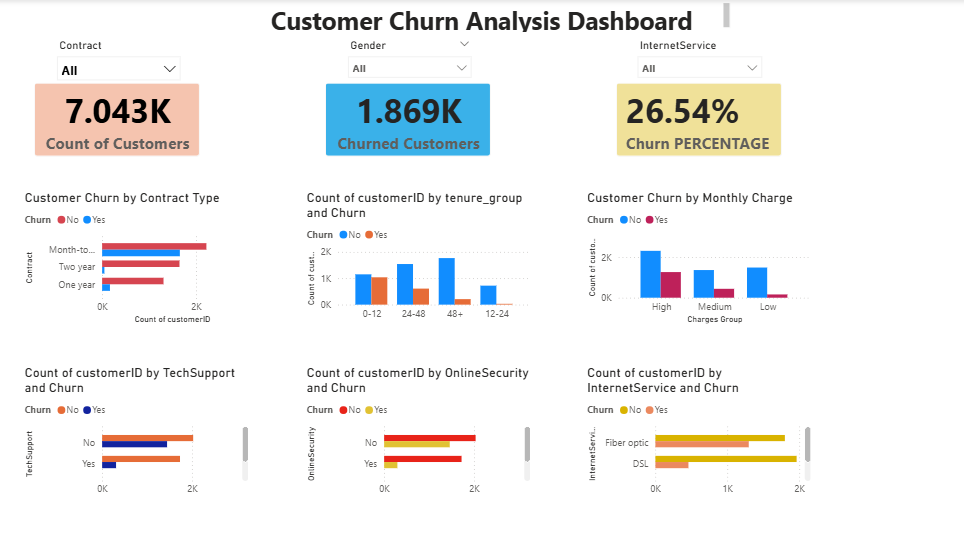

This screenshot's page, from the dashboard's own definition file:
{"tool":"powerbi","page":{"name":"Page 1","canvas":[1280,720],"ordinal":0},"visuals":[{"type":"cardVisual","fields":{"Data":["CountNonNull(WA_Fn-UseC_-Telco-Customer-Churn.customerID)"]},"box":[35.1,91.5,249.3,130.5],"z":0},{"type":"cardVisual","fields":{"Data":["WA_Fn-UseC_-Telco-Customer-Churn.churn_rate"]},"box":[790.6,91.5,249.3,130.5],"z":1000},{"type":"cardVisual","fields":{"Data":["WA_Fn-UseC_-Telco-Customer-Churn.Churned Customers"]},"box":[412.8,91.5,249.3,130.5],"z":2000},{"type":"clusteredBarChart","title":"Customer Churn by Contract Type","fields":{"Series":["WA_Fn-UseC_-Telco-Customer-Churn.Churn"],"Category":["WA_Fn-UseC_-Telco-Customer-Churn.Contract"],"Y":["CountNonNull(WA_Fn-UseC_-Telco-Customer-Churn.customerID)"]},"box":[35.1,247.3,299.9,179.1],"z":3000},{"type":"clusteredColumnChart","title":"Customer Churn by Monthly Charge","fields":{"Y":["CountNonNull(WA_Fn-UseC_-Telco-Customer-Churn.customerID)"],"Series":["WA_Fn-UseC_-Telco-Customer-Churn.Churn"],"Category":["WA_Fn-UseC_-Telco-Customer-Churn.Charges Group"]},"box":[765.3,247.3,299.9,179.1],"z":4000},{"type":"clusteredBarChart","fields":{"Category":["WA_Fn-UseC_-Telco-Customer-Churn.TechSupport"],"Series":["WA_Fn-UseC_-Telco-Customer-Churn.Churn"],"Y":["CountNonNull(WA_Fn-UseC_-Telco-Customer-Churn.customerID)"]},"box":[35.1,475.1,299.9,179.1],"z":5000},{"type":"clusteredBarChart","fields":{"Category":["WA_Fn-UseC_-Telco-Customer-Churn.OnlineSecurity"],"Y":["CountNonNull(WA_Fn-UseC_-Telco-Customer-Churn.customerID)"],"Series":["WA_Fn-UseC_-Telco-Customer-Churn.Churn"]},"box":[400.2,475.1,299.9,179.1],"z":6000},{"type":"clusteredBarChart","fields":{"Category":["WA_Fn-UseC_-Telco-Customer-Churn.InternetService"],"Y":["CountNonNull(WA_Fn-UseC_-Telco-Customer-Churn.customerID)"],"Series":["WA_Fn-UseC_-Telco-Customer-Churn.Churn"]},"box":[765.3,475.1,299.9,179.1],"z":7000},{"type":"clusteredColumnChart","fields":{"Series":["WA_Fn-UseC_-Telco-Customer-Churn.Churn"],"Y":["CountNonNull(WA_Fn-UseC_-Telco-Customer-Churn.customerID)"],"Category":["WA_Fn-UseC_-Telco-Customer-Churn.tenure_group"]},"box":[400.2,247.3,299.9,179.1],"z":8000},{"type":"textbox","box":[309.6,0,650.4,46.7],"z":8001},{"type":"slicer","fields":{"Values":["WA_Fn-UseC_-Telco-Customer-Churn.Contract"]},"box":[72,46.7,180,60.4],"z":8002},{"type":"slicer","fields":{"Values":["WA_Fn-UseC_-Telco-Customer-Churn.gender"]},"box":[448.8,46.7,180,60],"z":8003},{"type":"slicer","fields":{"Values":["WA_Fn-UseC_-Telco-Customer-Churn.InternetService"]},"box":[825.6,46.7,181.1,58.4],"z":8004}]}

Visuals, with their boxes in screenshot pixels (x1, y1, x2, y2), scaled from the page's 1280x720 canvas onto the 964x537 screenshot:
cardVisual - CountNonNull(WA_Fn-UseC_-Telco-Customer-Churn.customerID): <bbox>26, 68, 214, 166</bbox>
cardVisual - WA_Fn-UseC_-Telco-Customer-Churn.churn_rate: <bbox>595, 68, 783, 166</bbox>
cardVisual - WA_Fn-UseC_-Telco-Customer-Churn.Churned Customers: <bbox>311, 68, 499, 166</bbox>
"Customer Churn by Contract Type" clusteredBarChart: <bbox>26, 184, 252, 318</bbox>
"Customer Churn by Monthly Charge" clusteredColumnChart: <bbox>576, 184, 802, 318</bbox>
clusteredBarChart - WA_Fn-UseC_-Telco-Customer-Churn.TechSupport x WA_Fn-UseC_-Telco-Customer-Churn.Churn: <bbox>26, 354, 252, 488</bbox>
clusteredBarChart - WA_Fn-UseC_-Telco-Customer-Churn.OnlineSecurity x CountNonNull(WA_Fn-UseC_-Telco-Customer-Churn.customerID): <bbox>301, 354, 527, 488</bbox>
clusteredBarChart - WA_Fn-UseC_-Telco-Customer-Churn.InternetService x CountNonNull(WA_Fn-UseC_-Telco-Customer-Churn.customerID): <bbox>576, 354, 802, 488</bbox>
clusteredColumnChart - WA_Fn-UseC_-Telco-Customer-Churn.Churn x CountNonNull(WA_Fn-UseC_-Telco-Customer-Churn.customerID): <bbox>301, 184, 527, 318</bbox>
textbox: <bbox>233, 0, 723, 35</bbox>
slicer - WA_Fn-UseC_-Telco-Customer-Churn.Contract: <bbox>54, 35, 190, 80</bbox>
slicer - WA_Fn-UseC_-Telco-Customer-Churn.gender: <bbox>338, 35, 474, 80</bbox>
slicer - WA_Fn-UseC_-Telco-Customer-Churn.InternetService: <bbox>622, 35, 758, 78</bbox>
